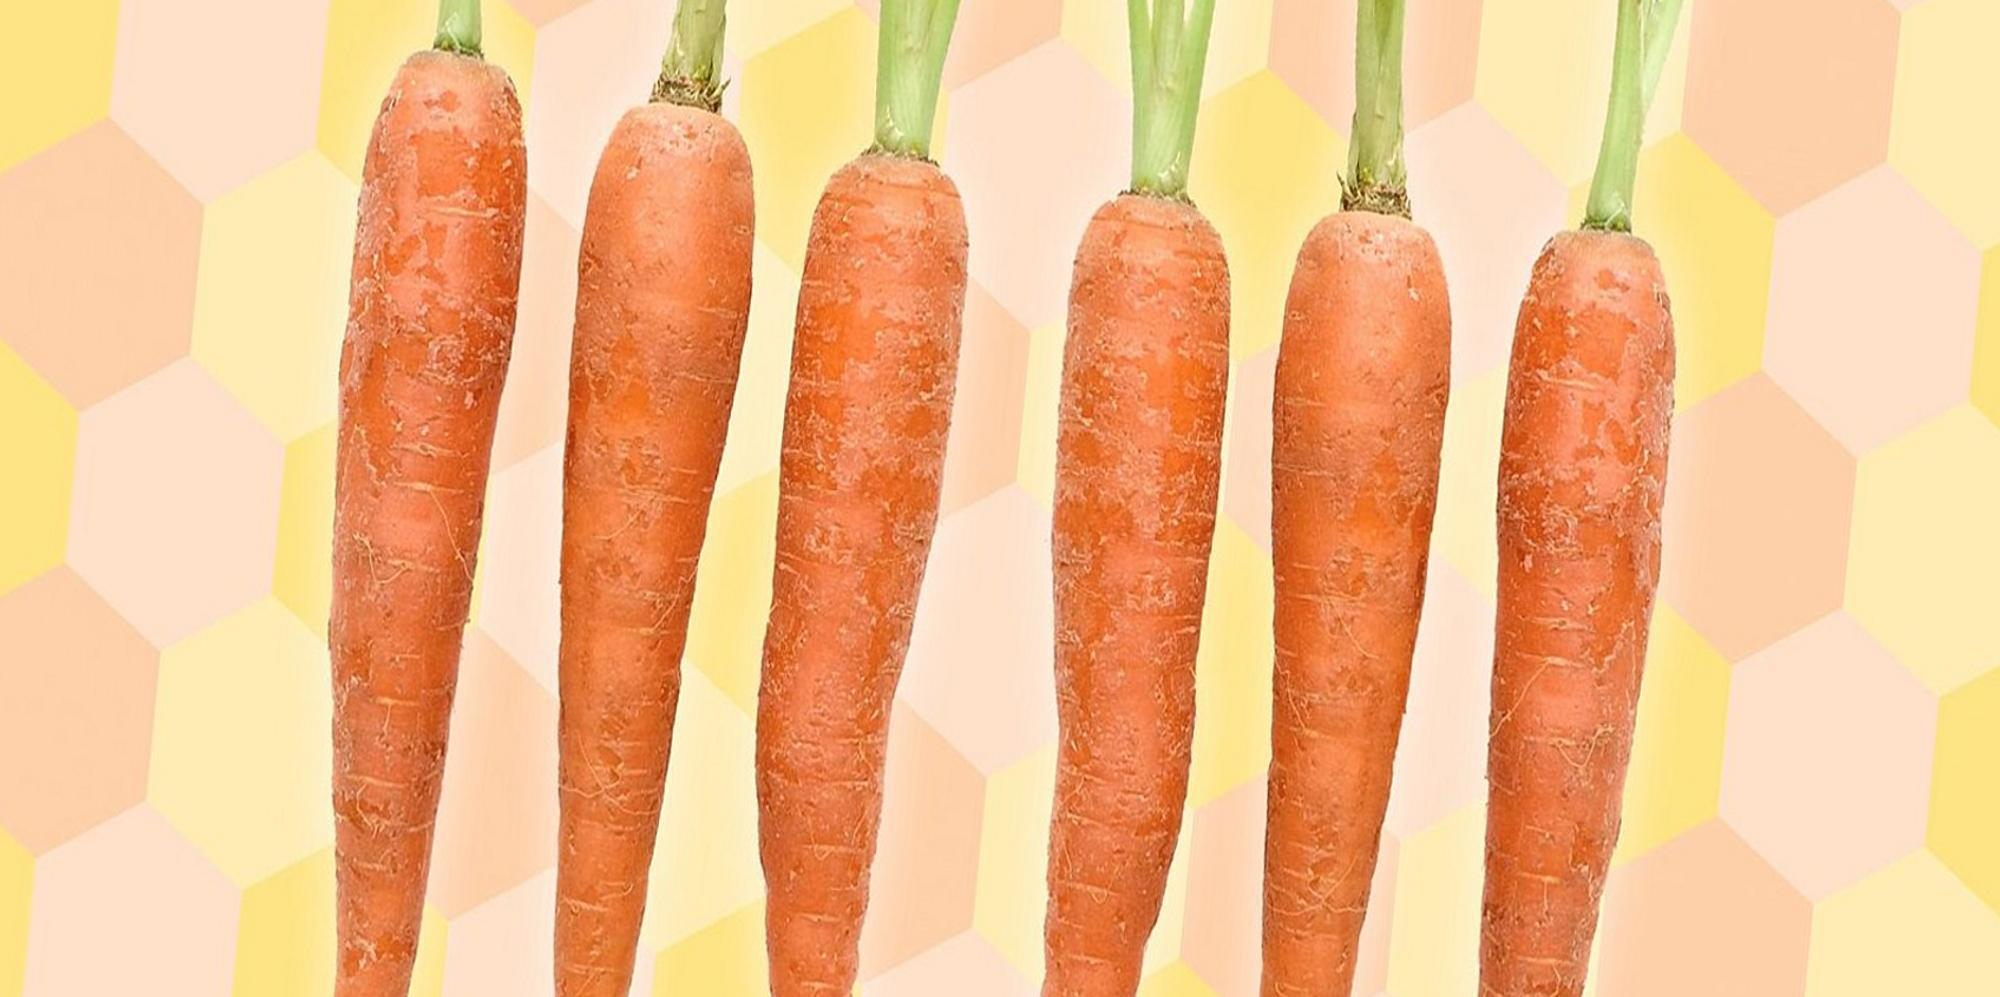carrot: (548, 84, 758, 997), (339, 37, 511, 997), (1494, 219, 1659, 997), (802, 131, 940, 997), (1069, 181, 1214, 997), (1268, 191, 1390, 997)
